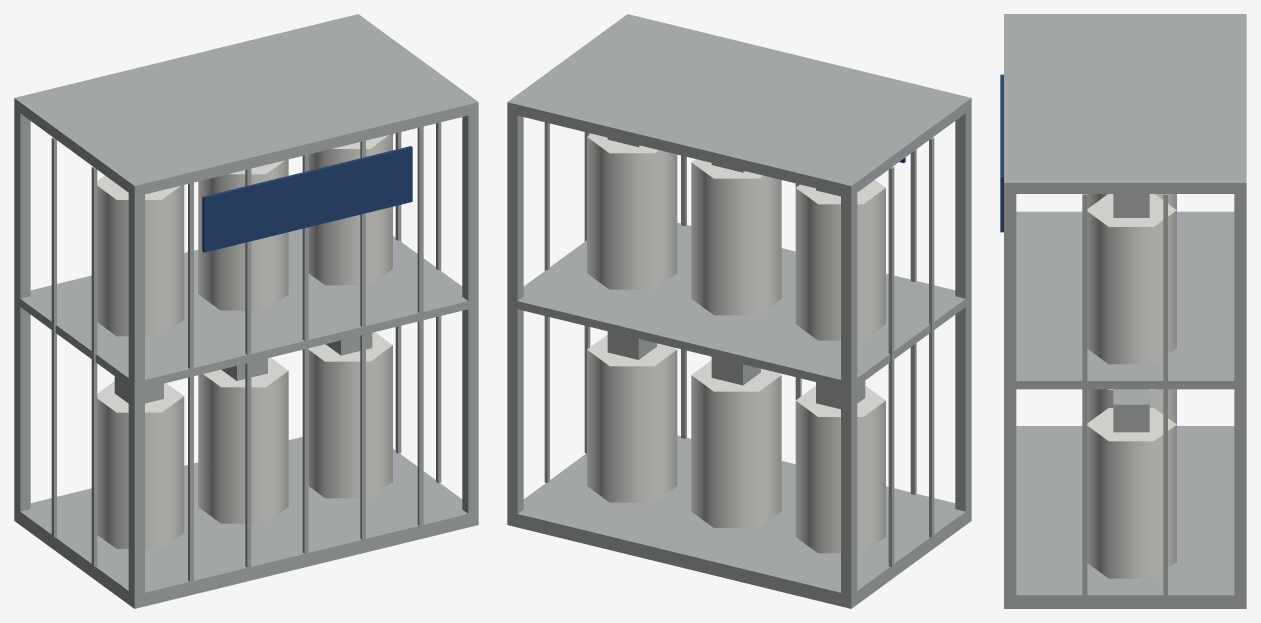
File: propane_cage.glb
The picture shows the model from 3 angles, left to right: view 1: azimuth 30°, elevation 25°; view 2: azimuth 150°, elevation 25°; view 3: azimuth 270°, elevation 25°; orthographic projection.
Parts seen in each view (by area): view 1: propane_cage; view 2: propane_cage; view 3: propane_cage.
Part boxes in pixels (x1=…): propane_cage: x1=14, y1=14, x2=478, y2=608; propane_cage: x1=507, y1=14, x2=971, y2=608; propane_cage: x1=1000, y1=14, x2=1246, y2=608.
Bounding box in the file's own units: 1.33 × 1.55 × 0.812.
1 material, 1 textured.
